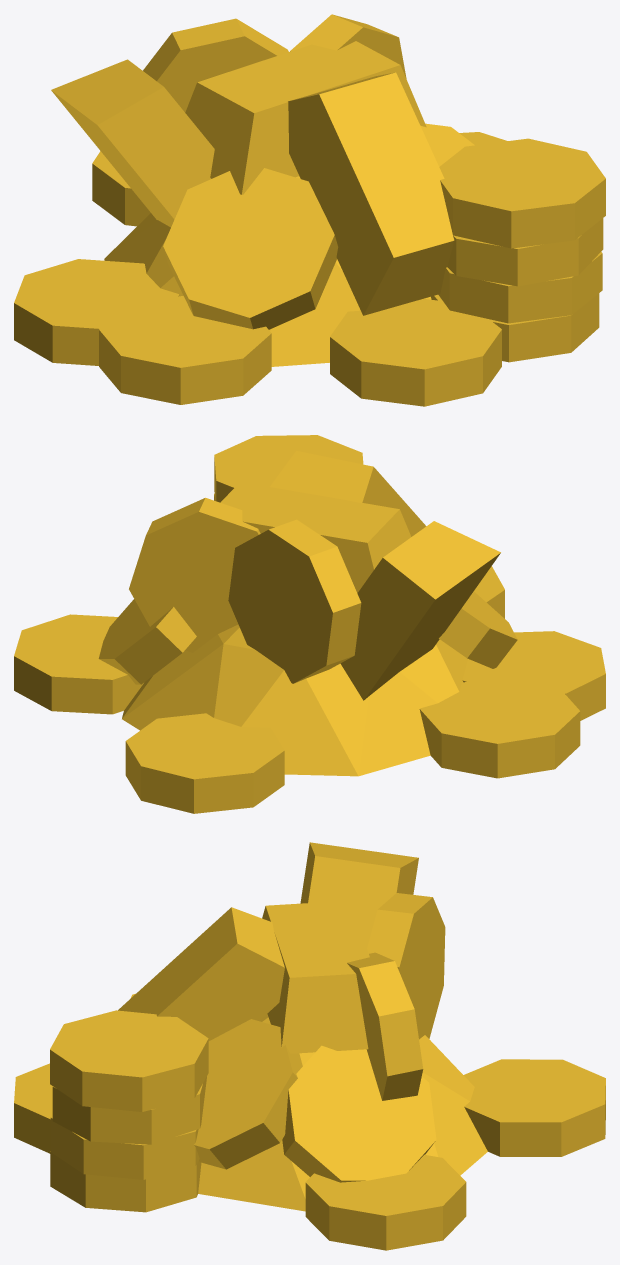
The model's file is FX_GoldPile_M.fbx.
3 renders of one model, top to bottom at view 1: azimuth 30°, elevation 25°; view 2: azimuth 150°, elevation 25°; view 3: azimuth 270°, elevation 25°, orthographic. The views are drawn at different scales.
Parts seen in each view (by area): view 1: Pile; view 2: Pile; view 3: Pile.
Boxes of the visible parts, x1,y1,x2,y2 form: Pile: (14, 14, 605, 406); Pile: (14, 435, 605, 813); Pile: (14, 842, 605, 1250).
Size of the model in its own units: 2.92 by 1.15 by 2.94.
